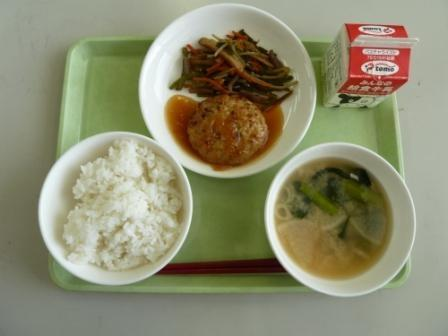Milk: (324, 22, 414, 107)
Rice: (34, 134, 186, 279)
Soups: (263, 153, 411, 283)
cutlet: (181, 94, 275, 166)
vegetable based cooked food: (173, 27, 295, 97)
